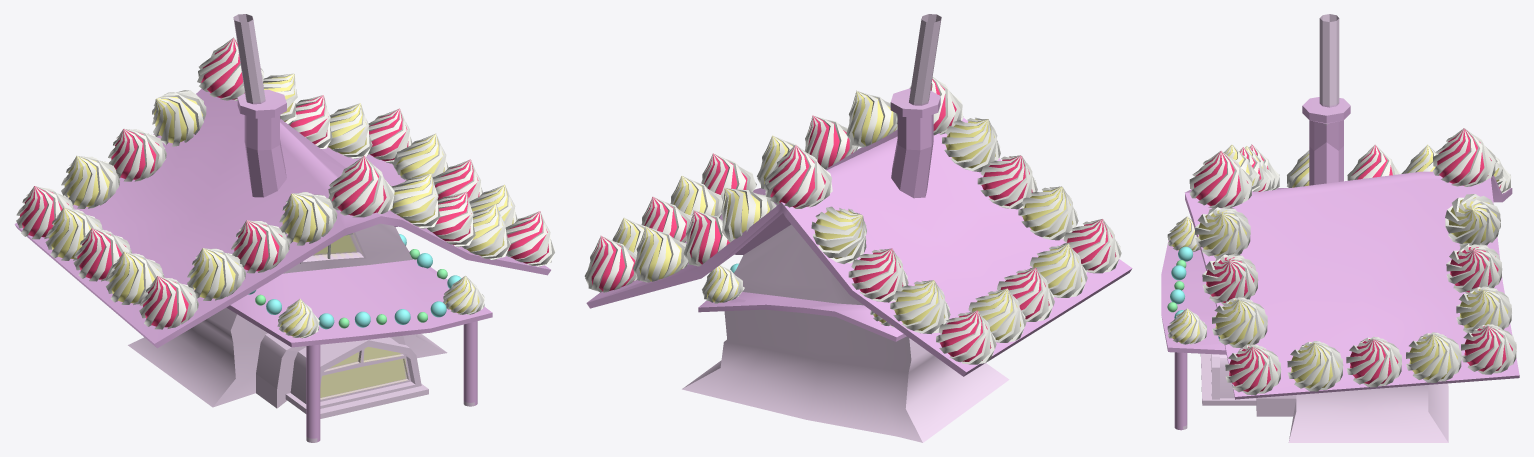
Rendered from candy house.fbx.
3 views of the same model, side by side, from view 1: azimuth 30°, elevation 25°; view 2: azimuth 150°, elevation 25°; view 3: azimuth 270°, elevation 25° (orthographic). The views are drawn at different scales.
Visible parts, largest first — view 1: pCylinder68; view 2: pCylinder68; view 3: pCylinder68.
Part boxes in pixels (x1,y1,x2,y2): pCylinder68: [14, 14, 555, 442]; pCylinder68: [584, 14, 1132, 442]; pCylinder68: [1161, 14, 1519, 442].
Size of the model in its own units: 58.84 by 49.8 by 47.39.
